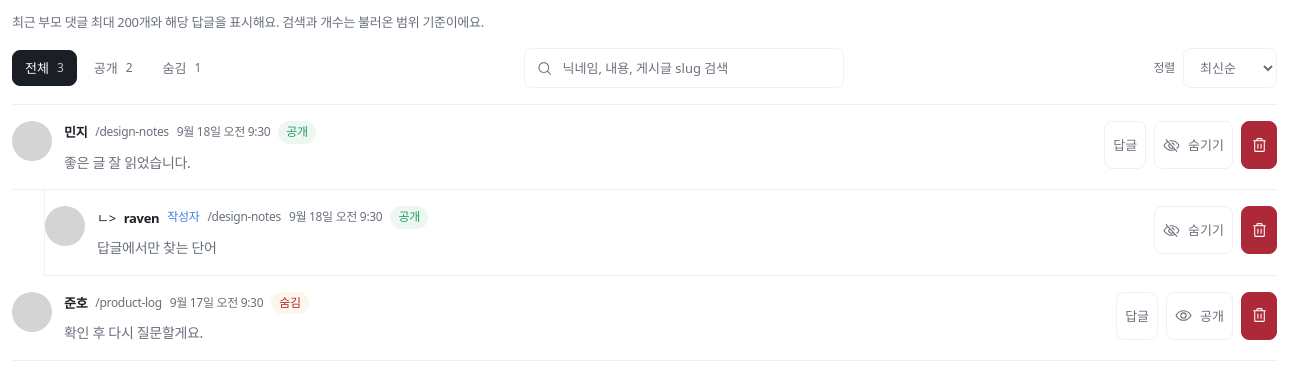
Scenario: AdminComments › 부모가 검색어와 일치하지 않아도 조건에 맞는 답글을 표시한다
Check: the text "민지" is shown, box x1=64 y1=122 x2=87 y2=142
Type "답글에서만" into the search field.
click(696, 68); type("답글에서만")  # box x1=561 y1=57 x2=831 y2=79
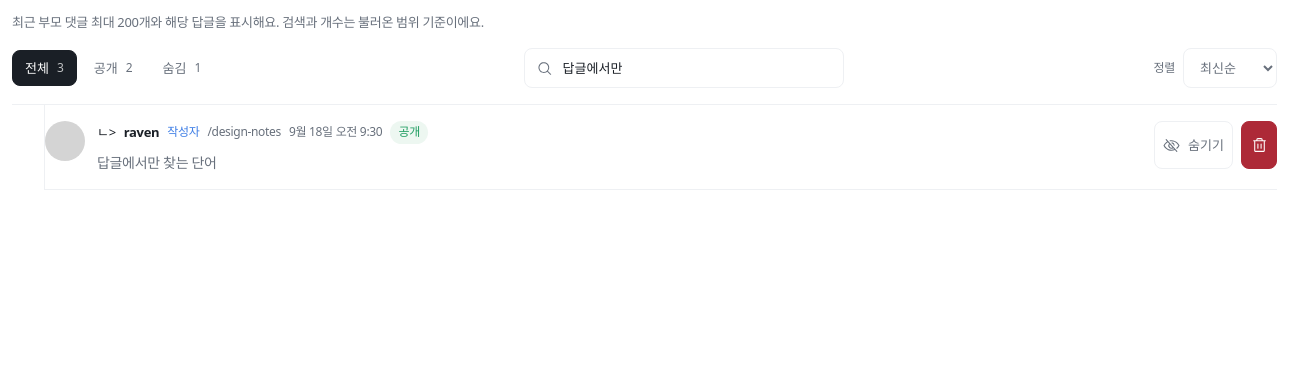
Check: the text "답글에서만 찾는 단어" is shown, box x1=97 y1=153 x2=217 y2=172
Check: the text "좋은 글 잘 읽었습니다." is gone
